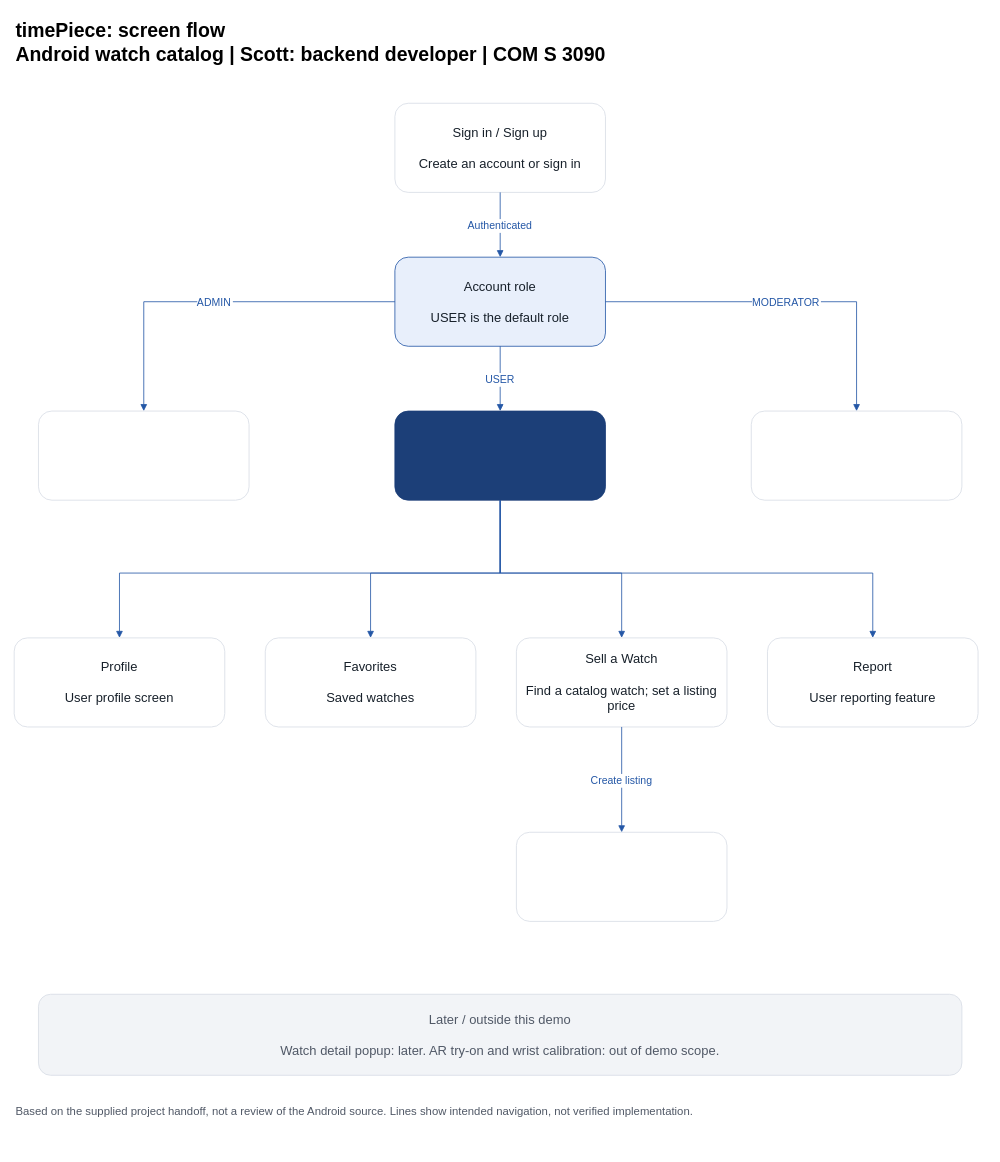
Some shapes in this 1000 by 1162 pixel diagram are drawn without their labels. Here are the shapes that lost their labels. From the top down, the centre of each, then its label:
At pixel 143 455: "ADMIN tools Add / edit a catalog watch: name, price, picture".
At pixel 499 455: "Catalog / Main screen Search + two-column watch grid".
At pixel 856 455: "MODERATOR tools Account management / delete an account".
At pixel 621 876: "Watch listing Listing is separate from the catalog watch".
